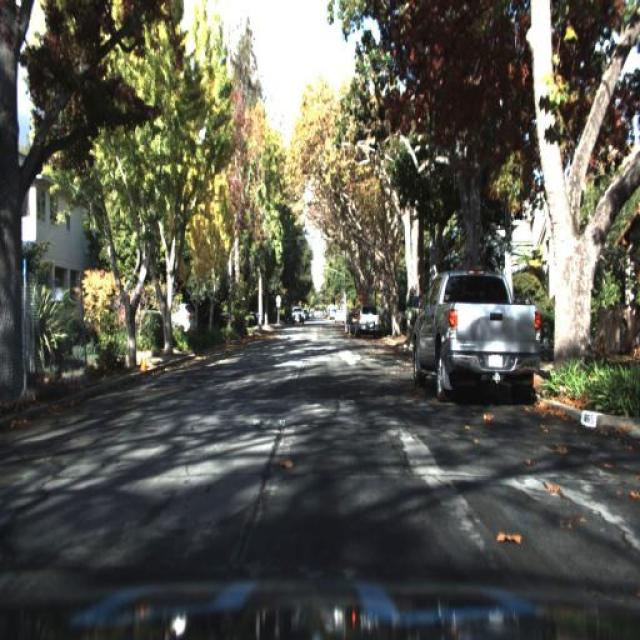car: (400, 253, 550, 422), (404, 263, 540, 406), (356, 304, 382, 340), (359, 306, 385, 338), (345, 312, 361, 332)
